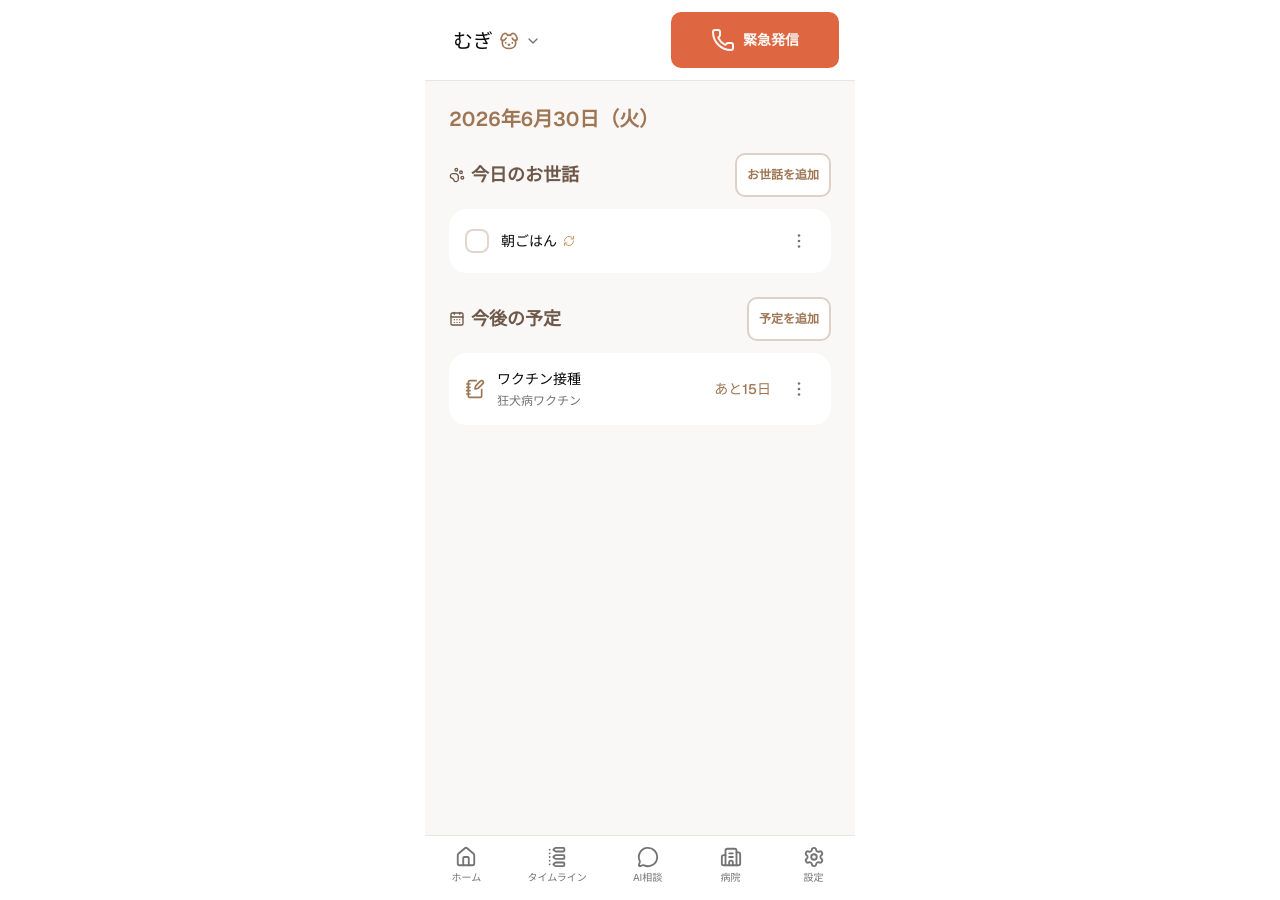
Scenario: CareHomePage › ToDo関連 › UT-F-207: ToDo編集ボタンクリックでModalが開き既存のタスク名が入る
This screenshot has width=1280, height=900.
Click the button named "朝ごはんのメニューを開く" at (799,241), box [783, 225, 815, 257]
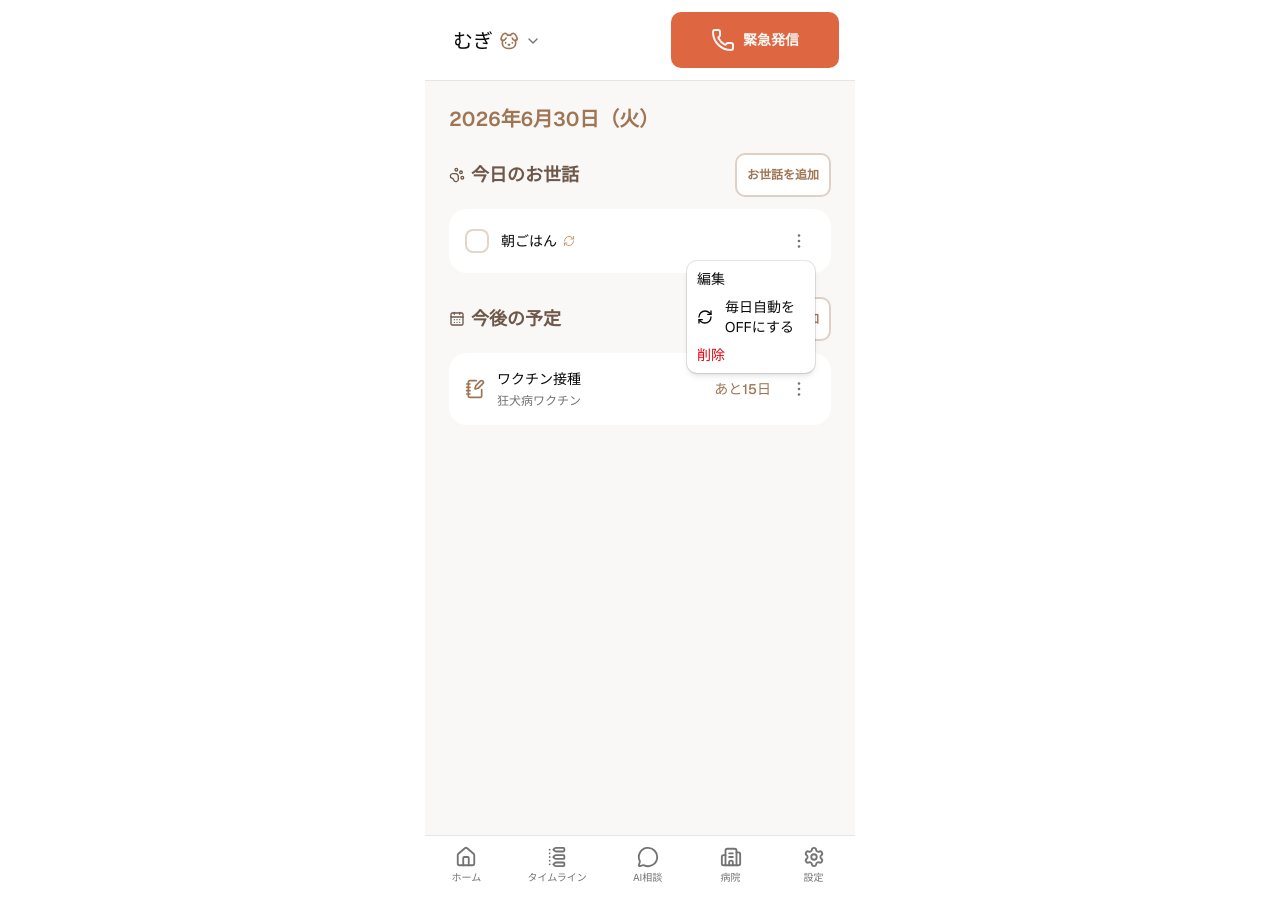
Click the menu item "編集" at (711,279), box [697, 270, 725, 288]
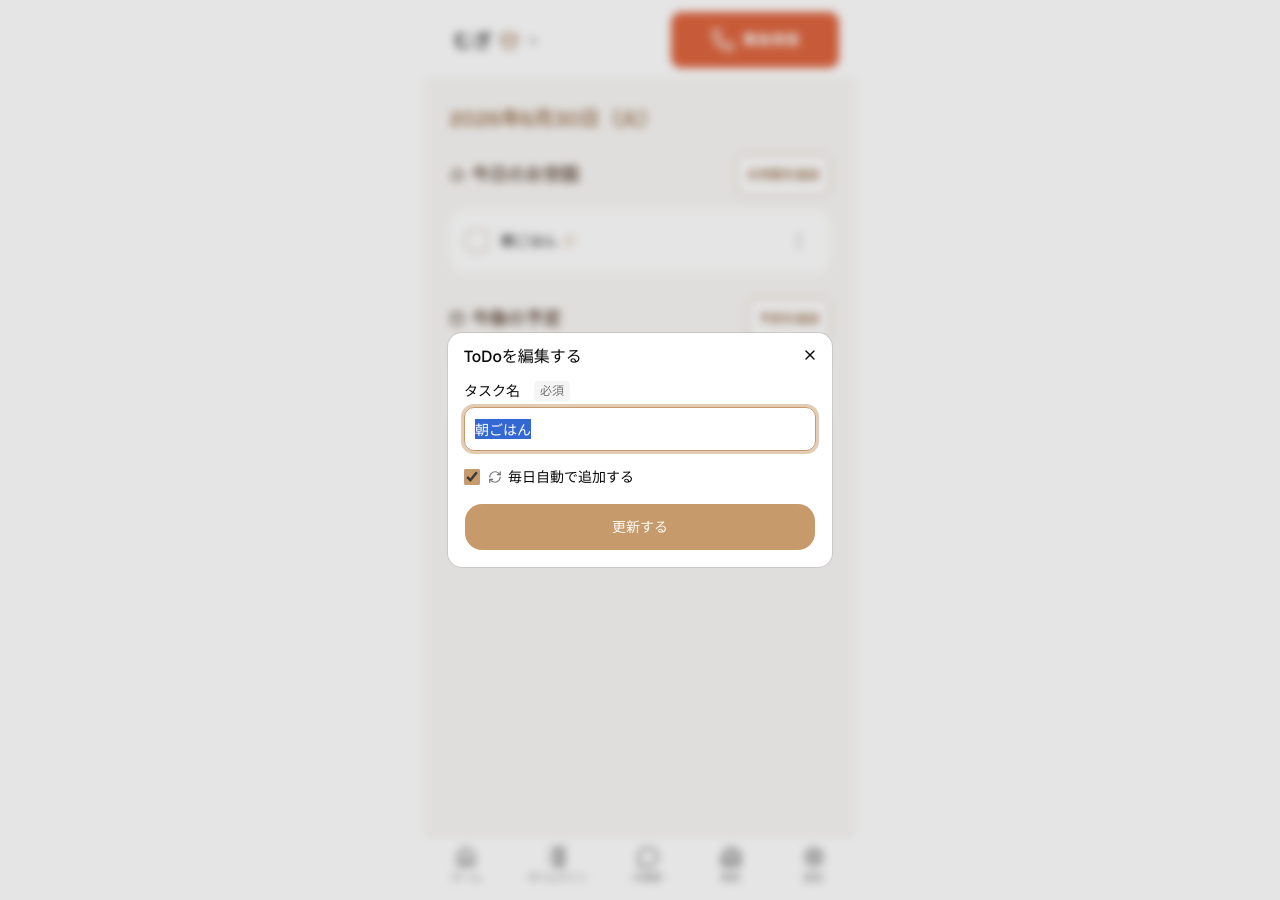
Check: the heading "ToDoを編集する" is shown, box [464, 346, 582, 367]
Check: the field labelled "タスク名 必須" holds "朝ごはん", box [464, 407, 816, 451]
